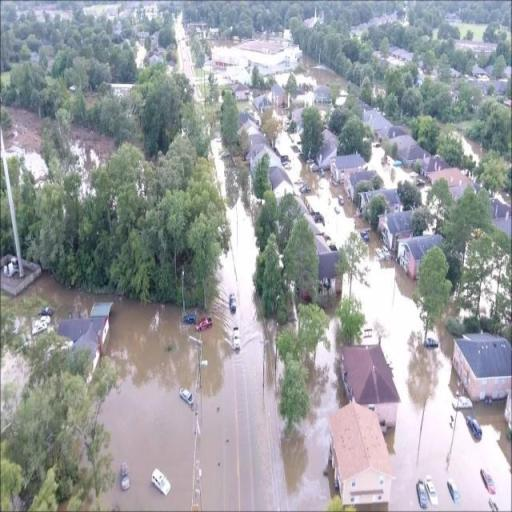flood: (102, 152, 338, 512), (353, 253, 512, 512), (278, 140, 363, 244), (18, 273, 94, 310)
house: (326, 404, 396, 506), (341, 342, 400, 424), (454, 333, 512, 399), (56, 315, 110, 348), (428, 166, 469, 189), (401, 236, 420, 281), (330, 154, 365, 178), (379, 213, 400, 248), (270, 166, 294, 196), (359, 189, 403, 205), (316, 143, 337, 170), (314, 84, 332, 104), (271, 86, 289, 106), (238, 118, 260, 134), (232, 82, 250, 101)
